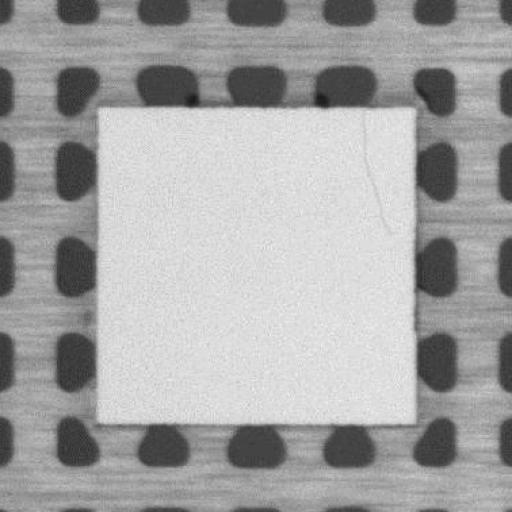DIE_CRACK: (360, 111, 393, 235)
